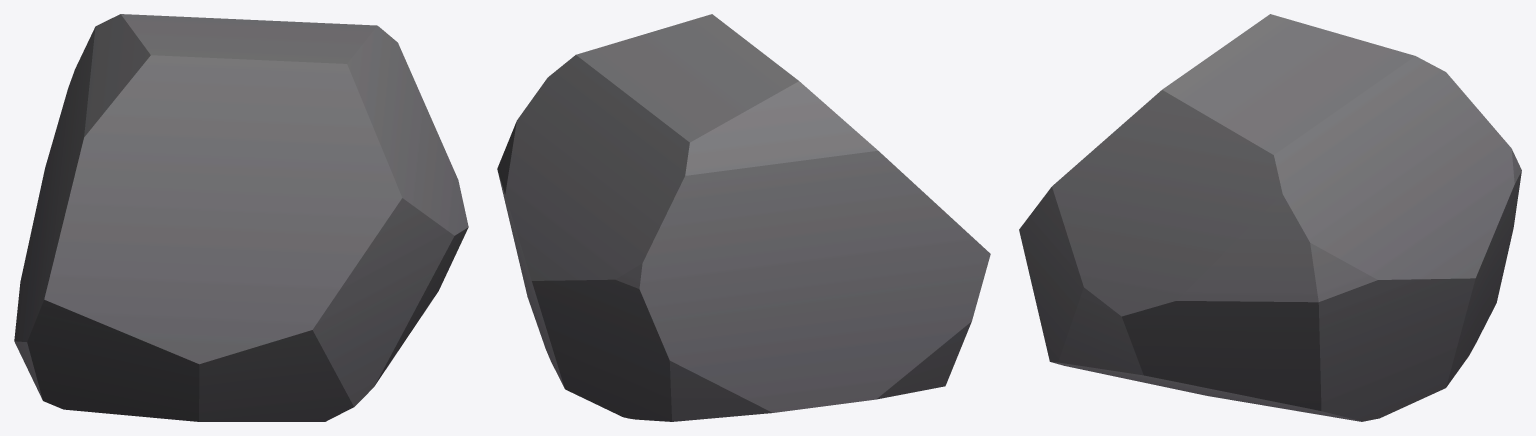
File: SM_Rock_01.glb
3 renders of one model, left to right at view 1: azimuth 30°, elevation 25°; view 2: azimuth 150°, elevation 25°; view 3: azimuth 270°, elevation 25°, orthographic. The views are drawn at different scales.
Visible parts, largest first — view 1: SM_Rock_01; view 2: SM_Rock_01; view 3: SM_Rock_01.
Part boxes in pixels (x1,y1,x2,y2): SM_Rock_01: (14,14,468,421); SM_Rock_01: (497,14,990,421); SM_Rock_01: (1019,14,1521,421).
Bounding box in the file's own units: 1.43 × 1.07 × 1.39.
1 material, 1 textured.
